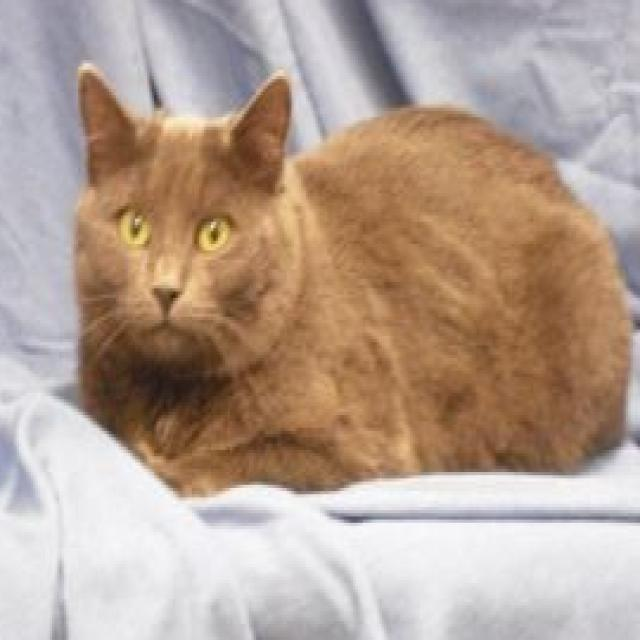British Shorthair: (67, 60, 636, 502)
